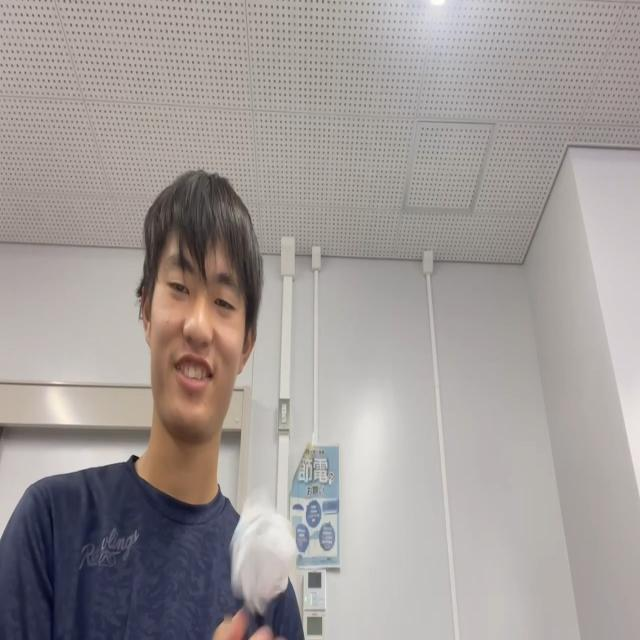paper: (229, 491, 299, 617)
